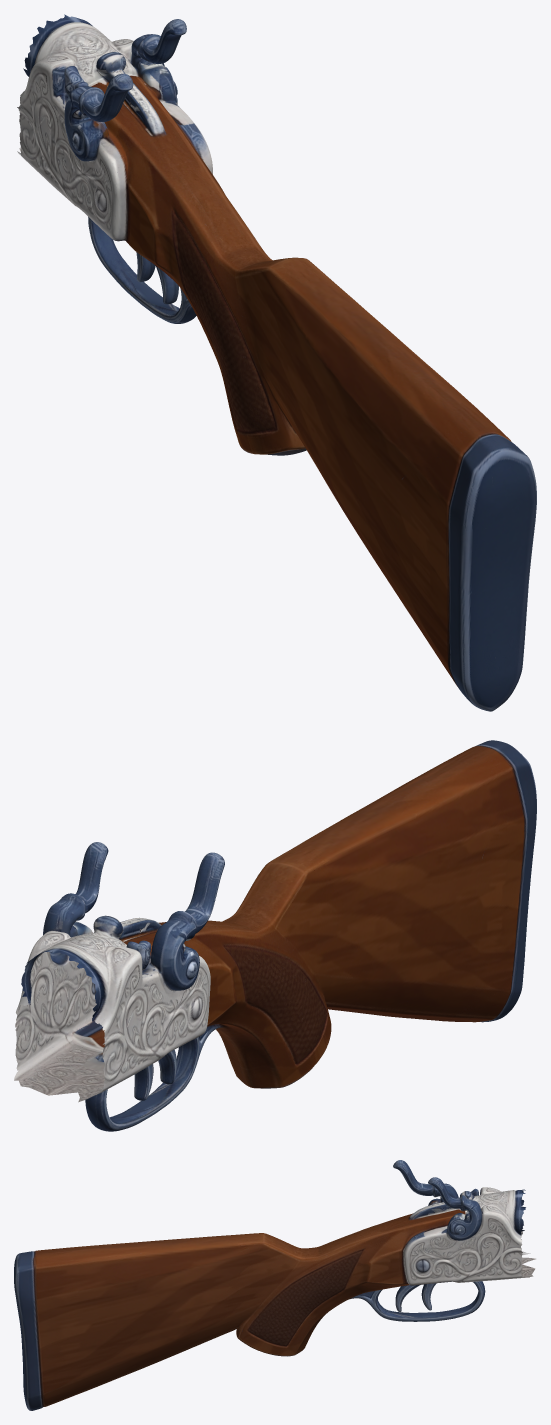
File: coach_shotgun_body.glb
3 views of the same model, one above another, from view 1: azimuth 30°, elevation 25°; view 2: azimuth 150°, elevation 25°; view 3: azimuth 270°, elevation 25° (orthographic). The views are drawn at different scales.
Parts seen in each view (by area): view 1: Mesh_0; view 2: Mesh_0; view 3: Mesh_0.
Part boxes in pixels (box(x1,y1,x2,y2)): Mesh_0: box(17, 14, 536, 711); Mesh_0: box(14, 740, 536, 1131); Mesh_0: box(14, 1160, 535, 1410).
Bounding box in the file's own units: 0.0713 × 0.2452 × 0.4769.
1 material, 1 textured.
